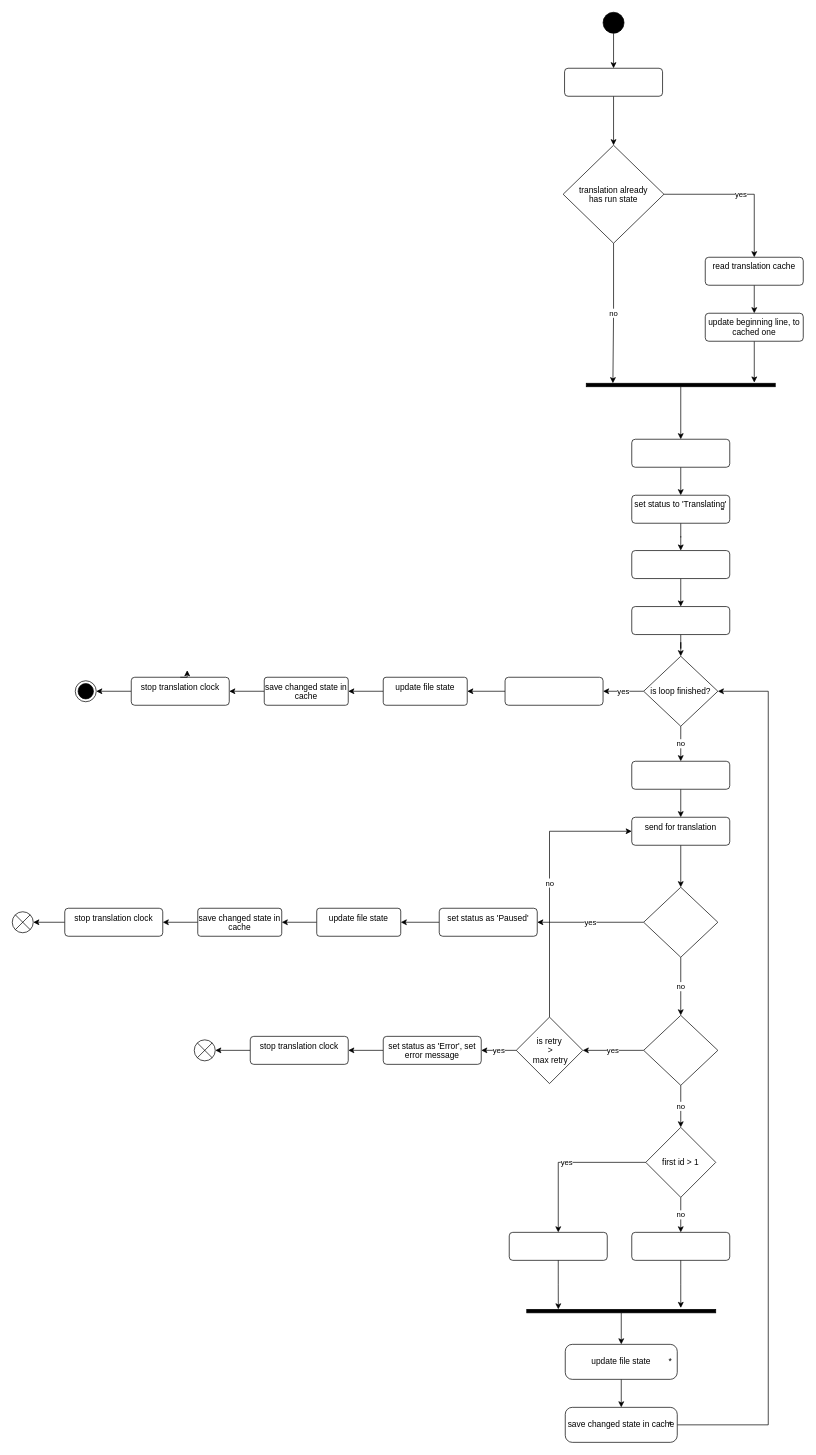
The diagram is 816 pixels wide and 1455 high, and some of its shapes have lost their labels. Each missing label, with the centre of its shape:
append = false: the point at 680,1246
append = true: the point at 558,1246
discard lines with id below last saved line: the point at 680,620
is paused: the point at 680,922
returned error?: the point at 680,1050
set status as 'Translated': the point at 553,691
start translation: the point at 613,82
start translation clock: the point at 680,453
stream file: the point at 680,564
take x amount of lines: the point at 680,775
